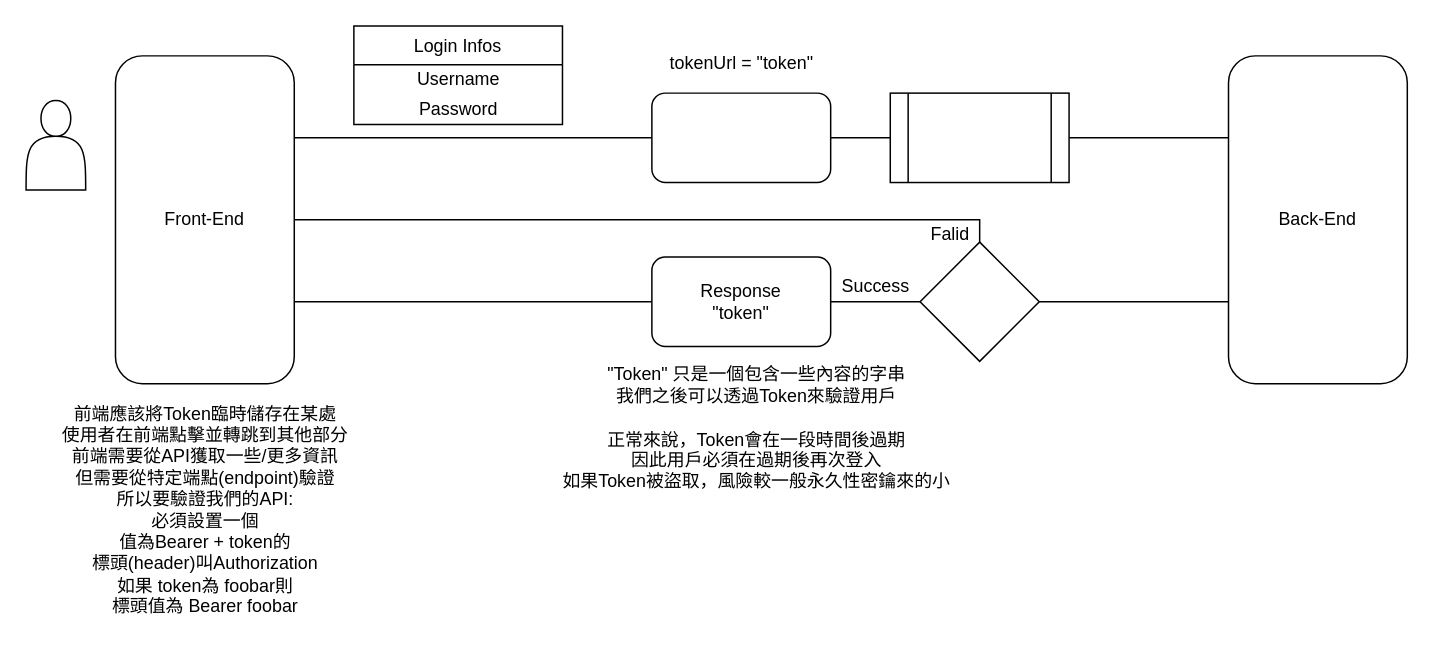
The diagram is 1433 pixels wide and 648 high, and some of its shapes have lost their labels. Here are the shapes that lost their labels. From the top down, the centre of each, then its label:
At point (740, 137): "POST /token/".
At point (979, 137): "Check Login Infos".
